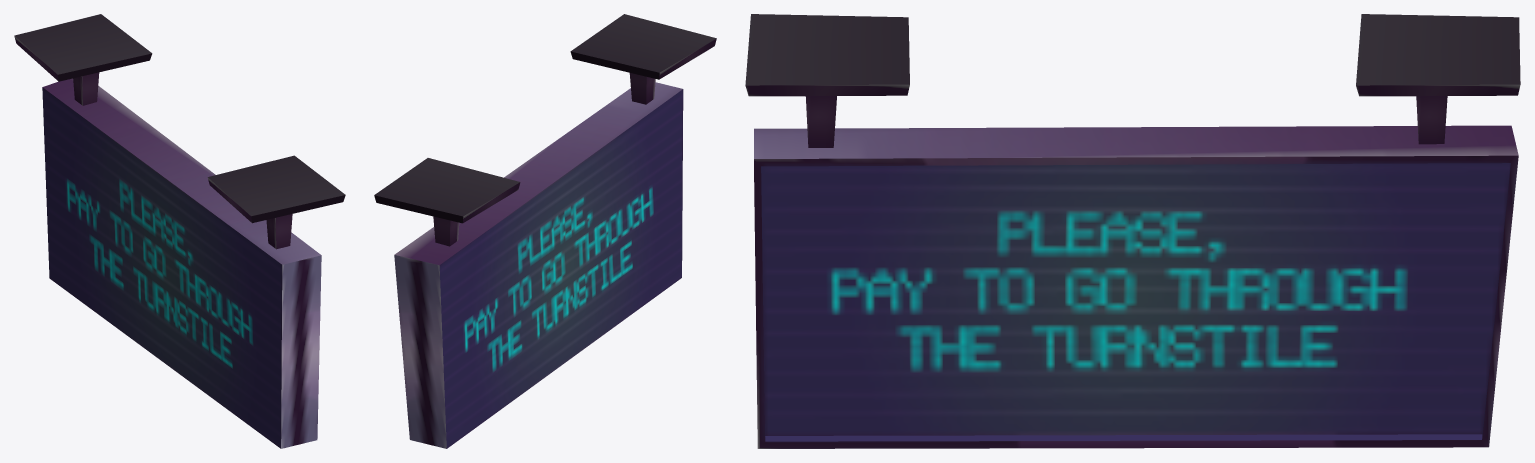
Rendered from Planta_con_texto.fbx.
The picture shows the model from 3 angles, left to right: view 1: azimuth 30°, elevation 25°; view 2: azimuth 150°, elevation 25°; view 3: azimuth 270°, elevation 25°; orthographic projection. The views are drawn at different scales.
Parts seen in each view (by area): view 1: Cube.041; view 2: Cube.041; view 3: Cube.041.
Part boxes in pixels (x1,y1,x2,y2): Cube.041: (14, 14, 345, 448); Cube.041: (374, 14, 716, 448); Cube.041: (745, 14, 1520, 448).
Size of the model in its own units: 17.25 by 42.73 by 78.2.
